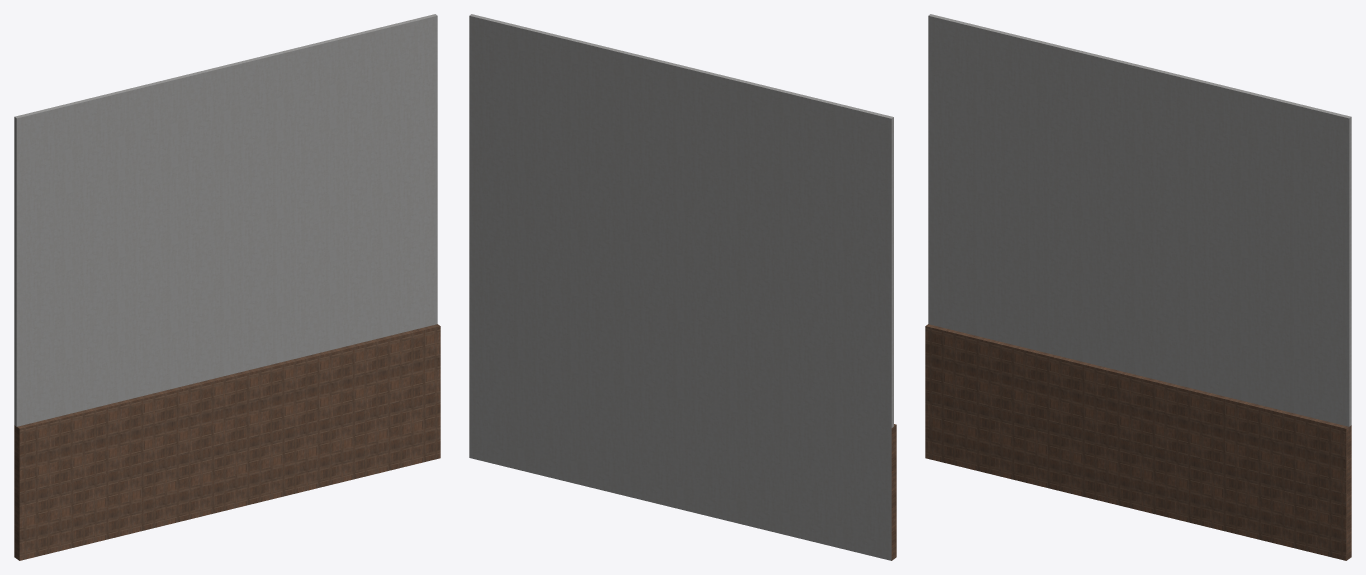
Rendered from 10x10wall.fbx.
3 renders of one model, left to right at view 1: azimuth 30°, elevation 25°; view 2: azimuth 150°, elevation 25°; view 3: azimuth 330°, elevation 25°, orthographic.
Parts seen in each view (by area): view 1: Wall10x10; view 2: Wall10x10; view 3: Wall10x10.
Part boxes in pixels (left/top/right/bottom): Wall10x10: left=14, top=14, right=440, bottom=560; Wall10x10: left=469, top=14, right=896, bottom=560; Wall10x10: left=925, top=14, right=1351, bottom=560.
Size of the model in its own units: 1000 by 1000 by 21.
1 material, 1 textured.
